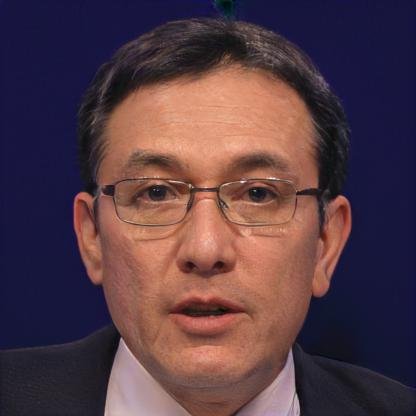glasses: (92, 173, 324, 229)
